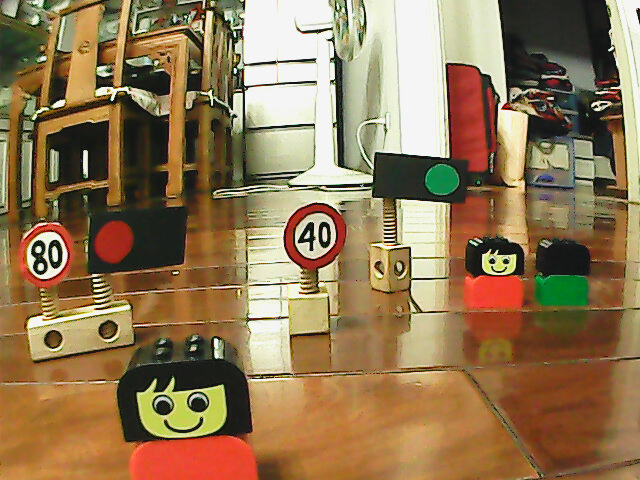Green Traffic Light: (419, 157, 465, 202)
Person: (115, 332, 263, 480), (461, 233, 529, 312), (530, 234, 593, 309)
Red Traffic Light: (90, 214, 138, 270)
Speed Limit 40: (282, 200, 349, 273)
Speed Limit 80: (14, 217, 77, 290)
